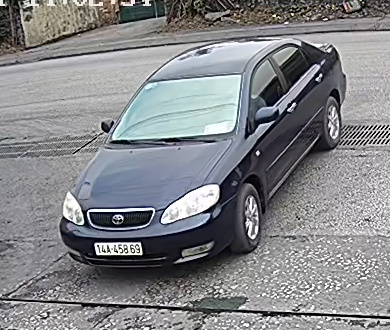vehicle plate: (92, 239, 145, 257)
